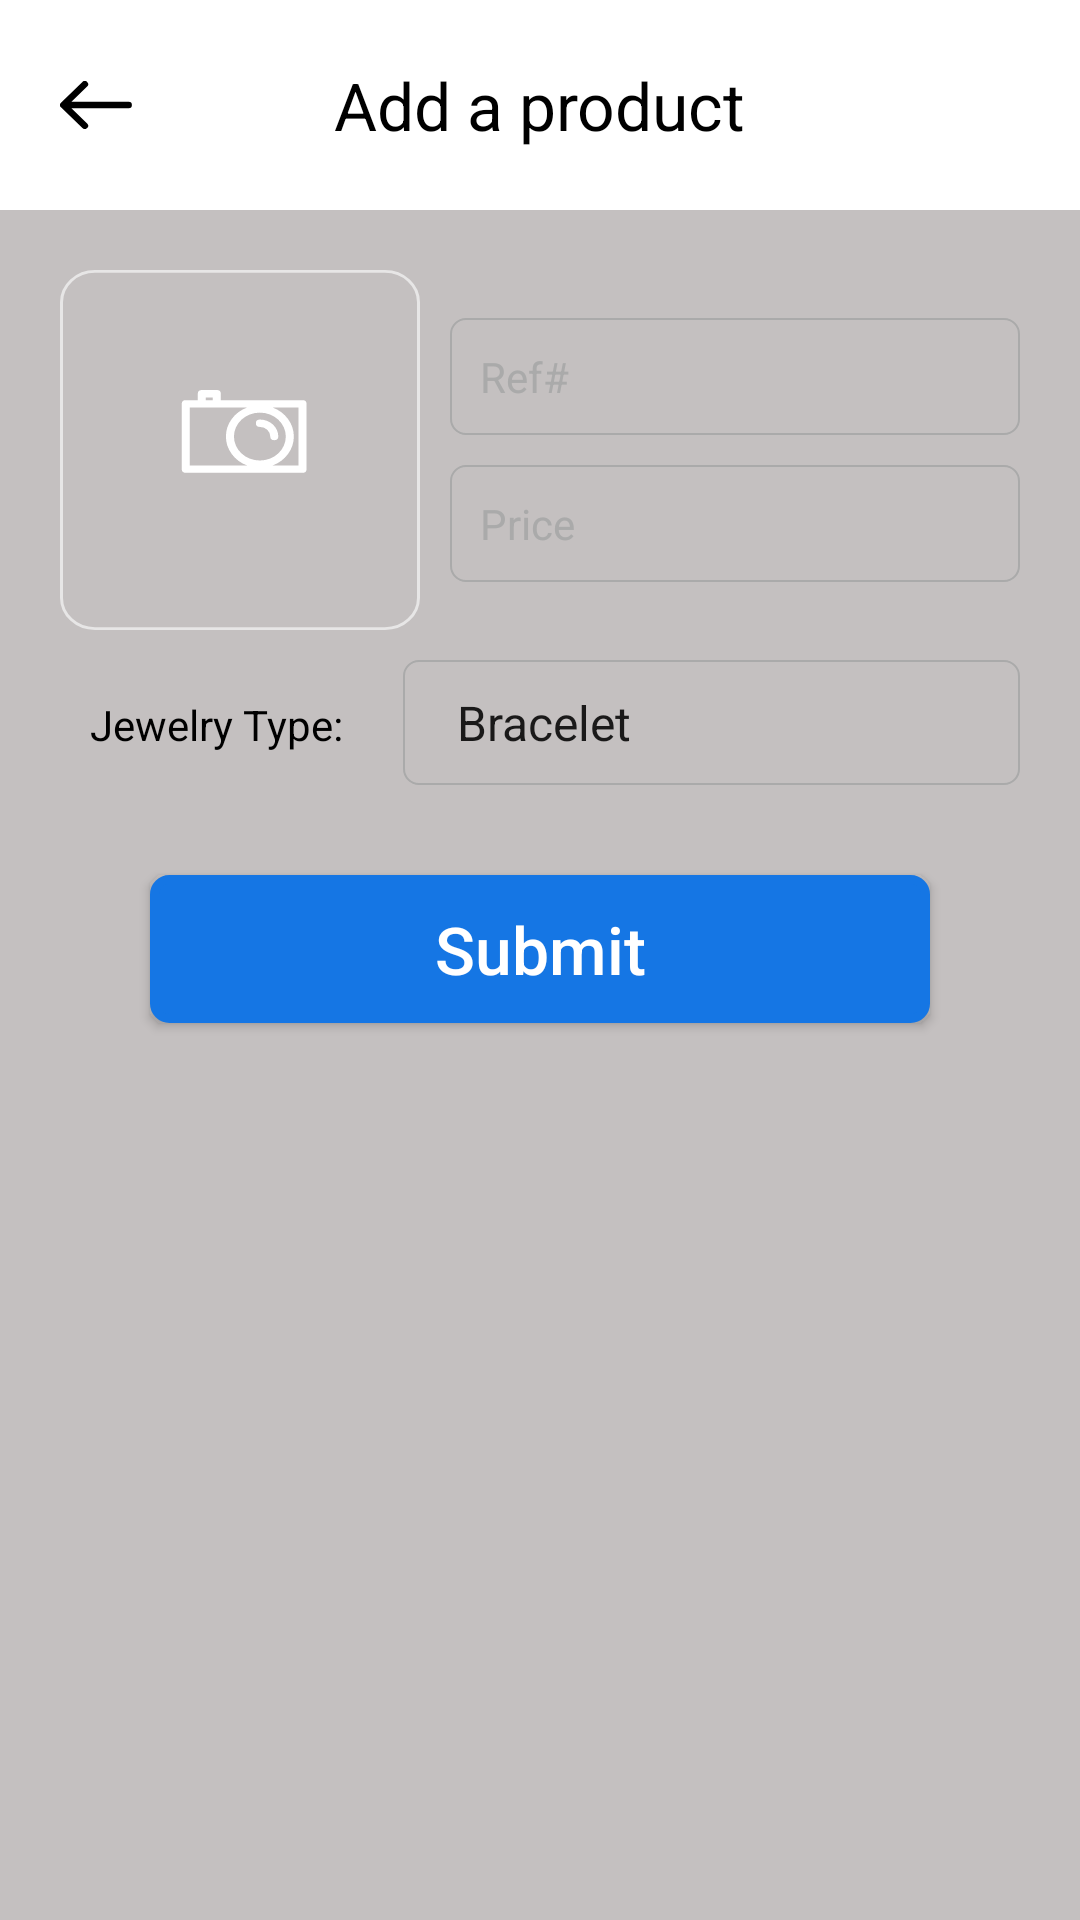

Icons on this 1080*1920 Android screen, each with the point to tap as point (x, y):
backbtn: point (96, 105)
